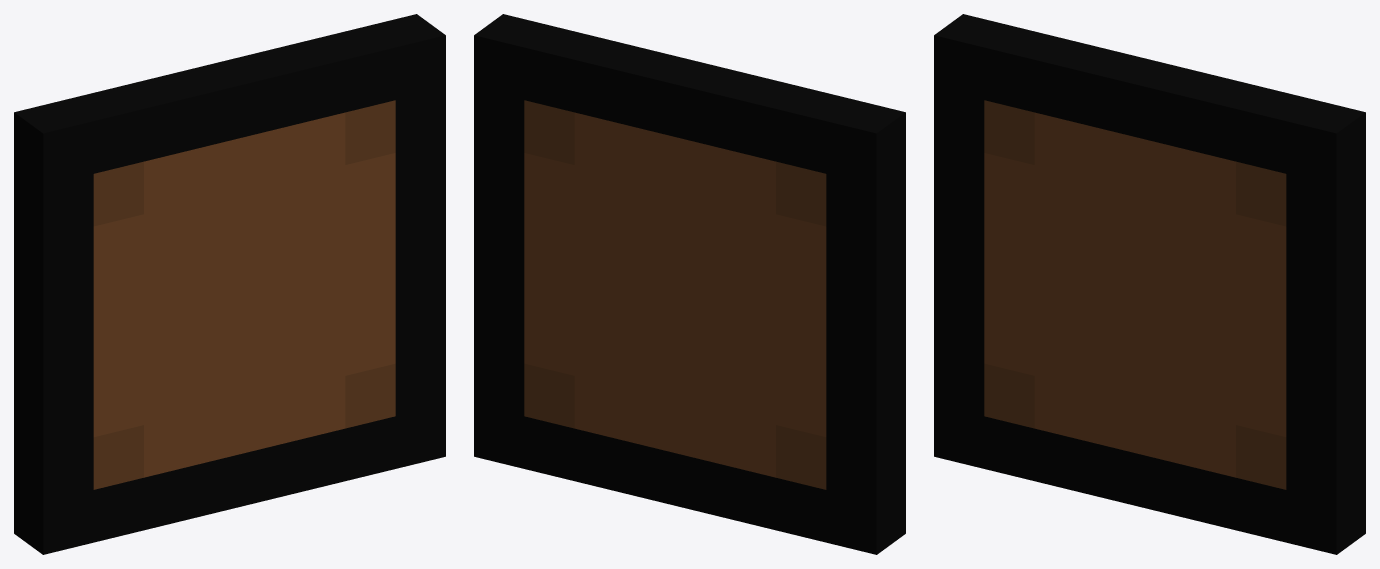
The model's file is 101_Piece9_6_0.obj.
3 renders of one model, left to right at view 1: azimuth 30°, elevation 25°; view 2: azimuth 150°, elevation 25°; view 3: azimuth 330°, elevation 25°, orthographic.
Visible parts, largest first — view 1: 101_Piece9_6_0; view 2: 101_Piece9_6_0; view 3: 101_Piece9_6_0.
Part boxes in pixels (left/top/right/bottom): 101_Piece9_6_0: left=14, top=14, right=445, bottom=554; 101_Piece9_6_0: left=474, top=14, right=905, bottom=554; 101_Piece9_6_0: left=934, top=14, right=1365, bottom=554.
Size of the model in its own units: 8 by 8 by 1.
Materials: 1 (1 with a texture image).
